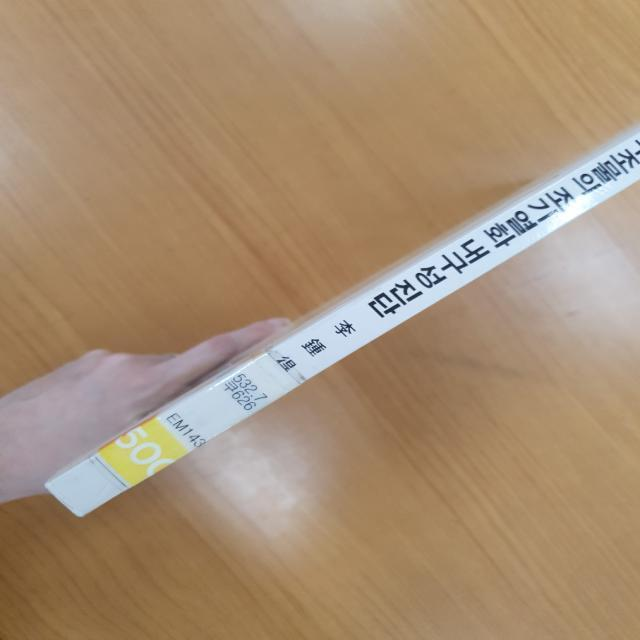Wornout: (42, 477, 88, 523)
